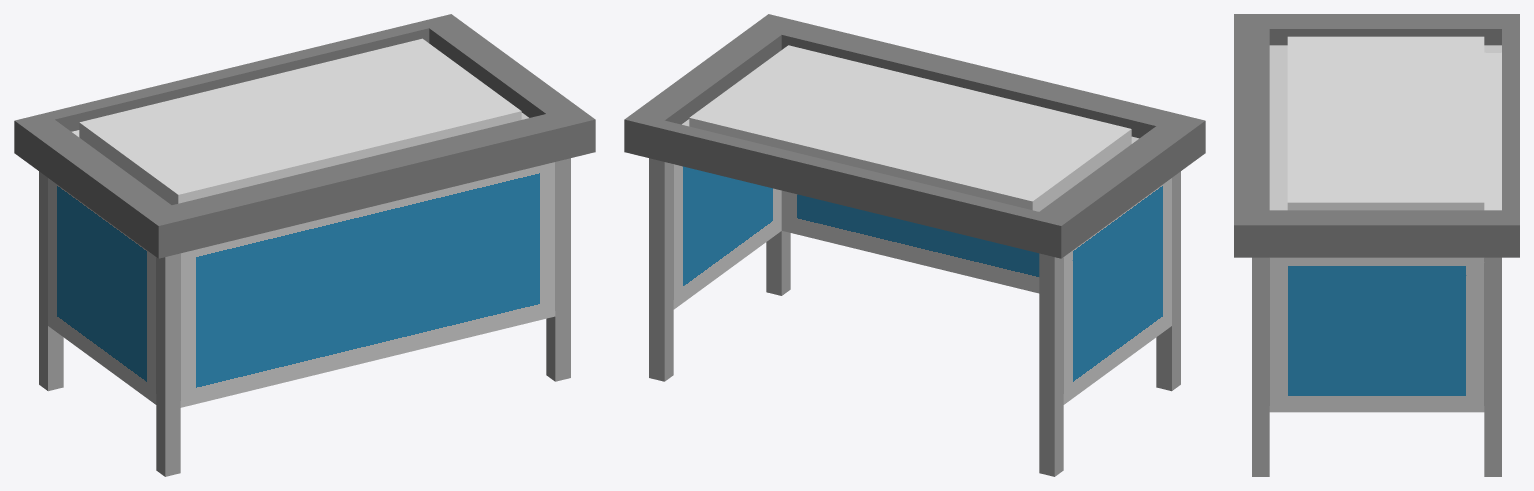
The model's file is obj_busstop.fbx.
3 renders of one model, left to right at view 1: azimuth 30°, elevation 25°; view 2: azimuth 150°, elevation 25°; view 3: azimuth 270°, elevation 25°, orthographic.
Parts seen in each view (by area): view 1: obj_busstop; view 2: obj_busstop; view 3: obj_busstop.
Boxes of the visible parts, x1,y1,x2,y2 form: obj_busstop: (14, 14, 595, 476); obj_busstop: (624, 14, 1205, 476); obj_busstop: (1234, 14, 1519, 476).
Bounding box in the file's own units: 2.8 × 1.6 × 1.6.
Materials: 1 (1 with a texture image).
